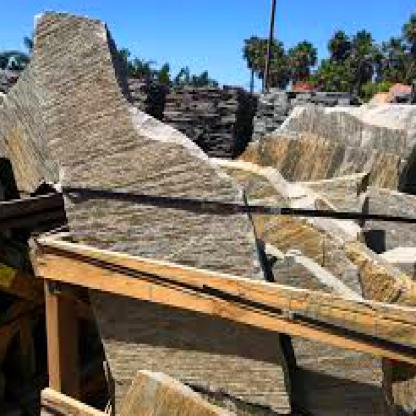Metamorphic_Quartize: (7, 0, 191, 204), (264, 105, 414, 208)
